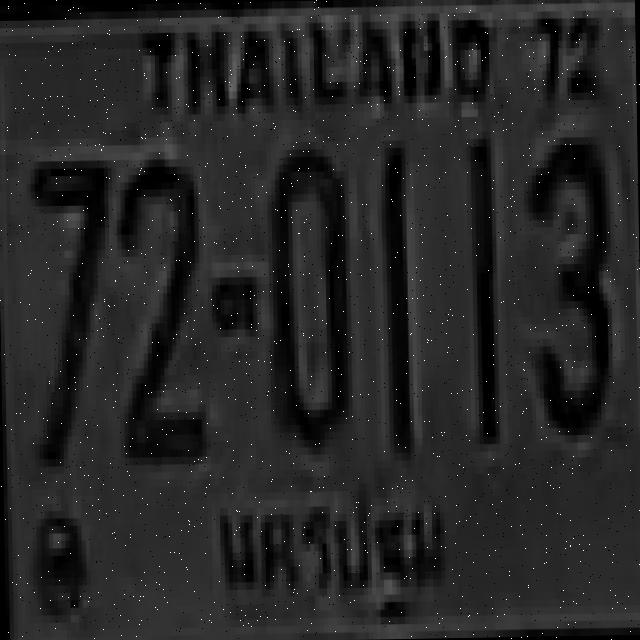0: (266, 140, 349, 440)
1: (378, 136, 412, 449), (378, 136, 408, 449), (466, 131, 496, 436)
2: (113, 148, 200, 454)
3: (522, 129, 610, 428)
7: (26, 153, 109, 459)
NakhonPathom: (209, 474, 456, 624)
